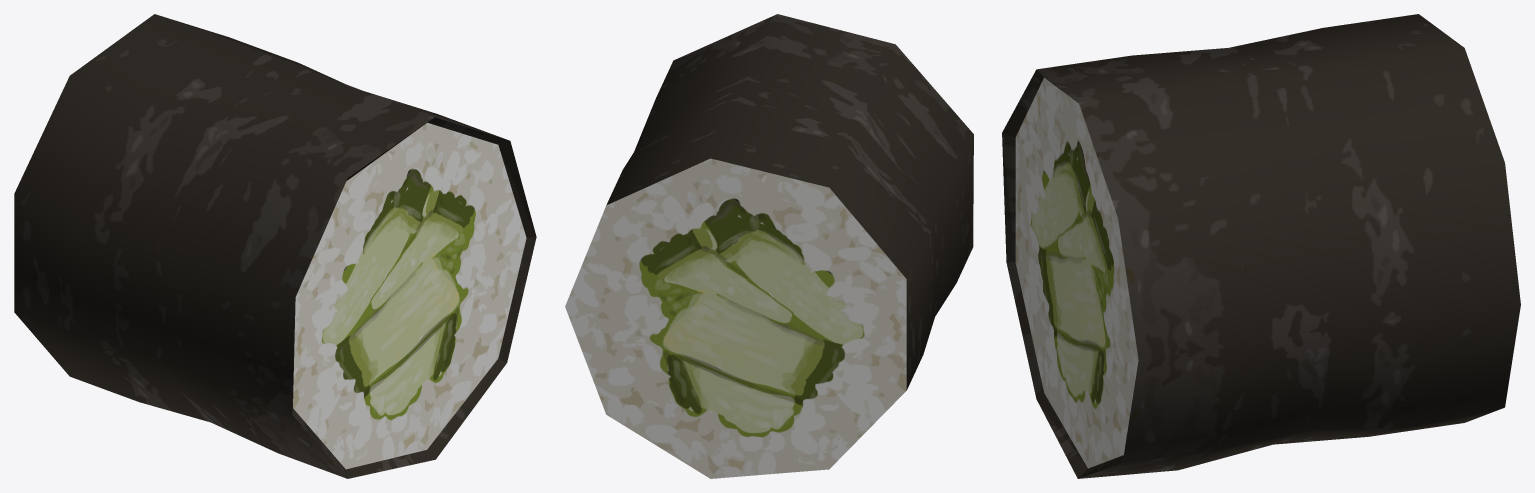
Rendered from sushi5.fbx.
3 renders of one model, left to right at view 1: azimuth 30°, elevation 25°; view 2: azimuth 150°, elevation 25°; view 3: azimuth 270°, elevation 25°, orthographic. The views are drawn at different scales.
Parts seen in each view (by area): view 1: sushi5; view 2: sushi5; view 3: sushi5.
Part boxes in pixels (left/top/right/bottom): sushi5: left=14, top=14, right=536, bottom=478; sushi5: left=565, top=14, right=973, bottom=478; sushi5: left=1002, top=14, right=1520, bottom=478.
Size of the model in its own units: 102 by 83.45 by 103.
